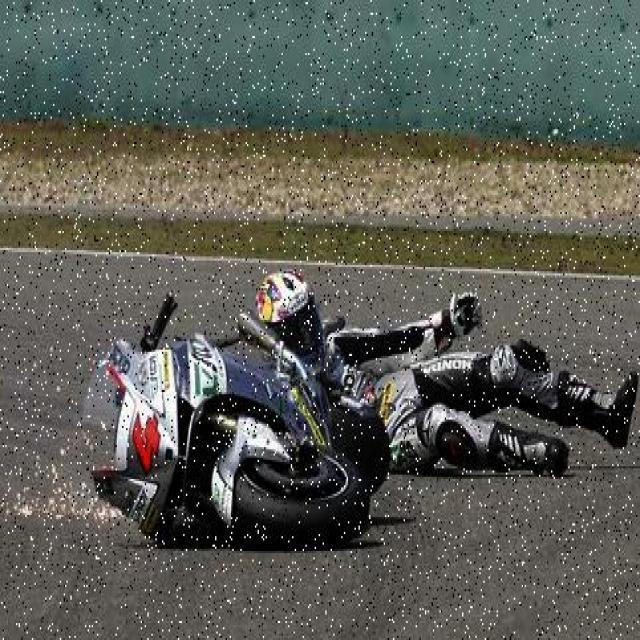fall: (266, 276, 624, 472)
